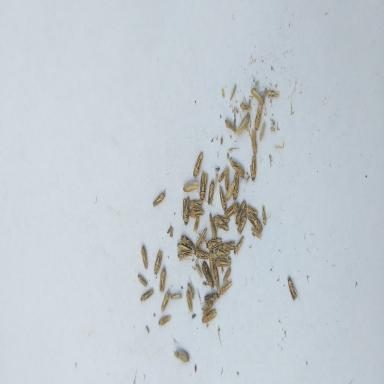pbw: (200, 259, 214, 291), (244, 212, 264, 234), (235, 112, 250, 140), (194, 222, 209, 250), (286, 274, 300, 302), (229, 157, 246, 180), (213, 246, 232, 266), (171, 347, 190, 367), (212, 213, 230, 234), (151, 188, 168, 210), (180, 194, 191, 228), (231, 233, 246, 257), (192, 149, 204, 179), (252, 102, 264, 132), (200, 306, 217, 327), (207, 209, 218, 241), (249, 85, 265, 107), (234, 199, 247, 226), (230, 170, 240, 205), (198, 172, 210, 201), (223, 201, 241, 220), (212, 262, 222, 294), (218, 278, 234, 298), (198, 298, 214, 318), (217, 184, 228, 213), (157, 266, 168, 294), (176, 248, 193, 266), (203, 291, 221, 308), (249, 154, 259, 184), (138, 244, 149, 271), (249, 128, 259, 157), (206, 178, 216, 207), (153, 249, 163, 278), (219, 238, 236, 255), (205, 234, 222, 251), (176, 241, 194, 257), (159, 290, 171, 314), (179, 234, 195, 252), (207, 248, 216, 280), (235, 214, 248, 236), (184, 288, 194, 316), (225, 178, 236, 202), (189, 205, 204, 222), (182, 180, 199, 195), (221, 264, 233, 284), (139, 287, 155, 302), (158, 312, 172, 328), (188, 197, 205, 210), (244, 204, 259, 218), (238, 98, 252, 113), (228, 82, 238, 103), (217, 166, 228, 185), (224, 118, 237, 134), (258, 120, 267, 143), (250, 226, 263, 241), (136, 272, 149, 286), (266, 88, 280, 101), (260, 202, 267, 227), (192, 214, 201, 233), (186, 281, 195, 299), (223, 169, 230, 192), (195, 261, 203, 281), (169, 292, 183, 301)
